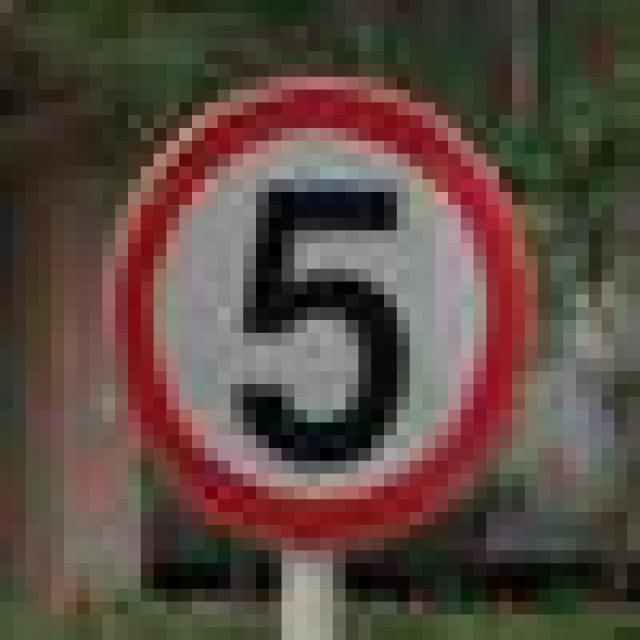SPEED_LIMIT_5: (90, 64, 524, 525)
